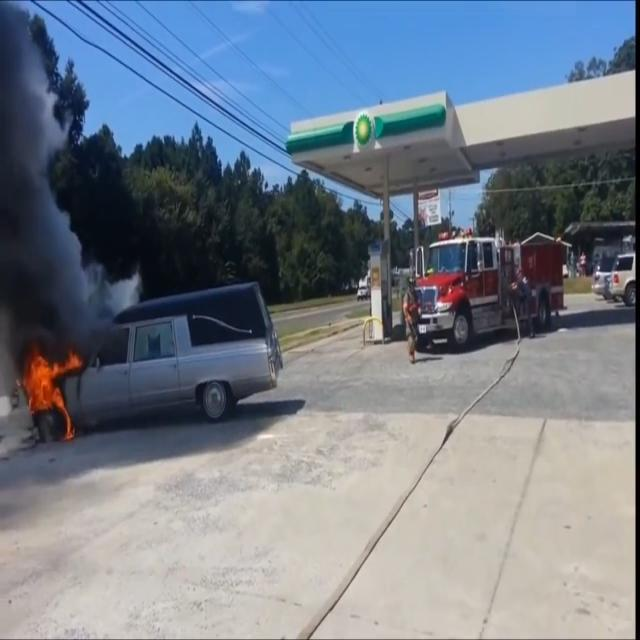fire: (16, 334, 84, 443)
